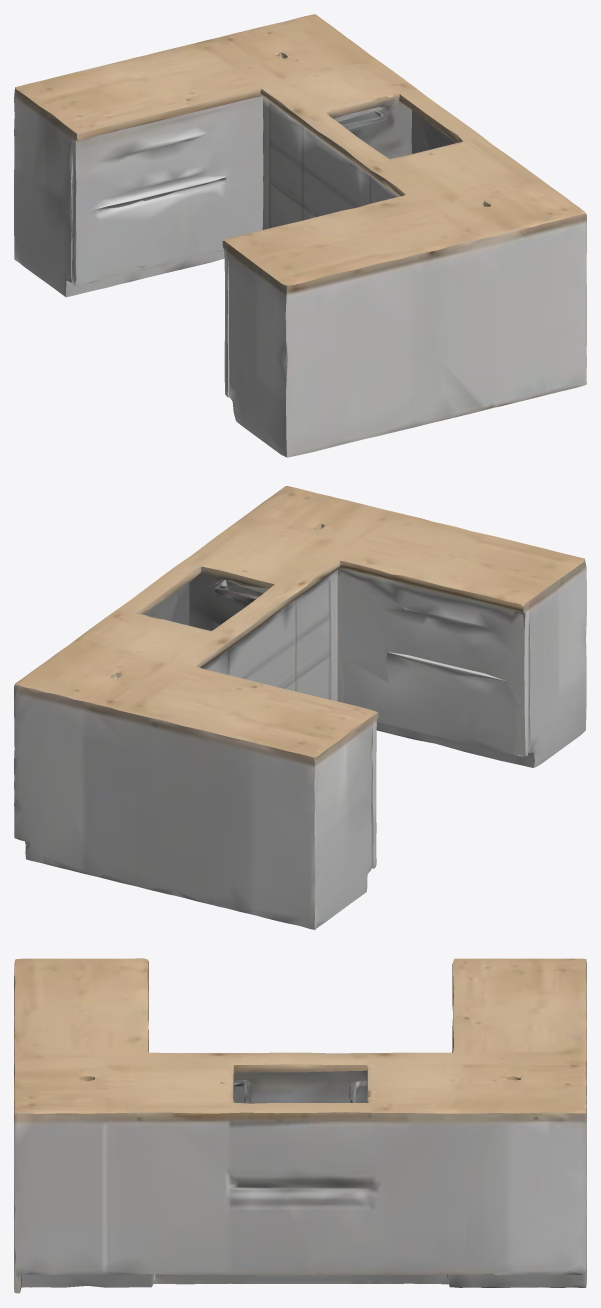
The model's file is kitchen-u-img.glb.
3 renders of one model, top to bottom at view 1: azimuth 30°, elevation 25°; view 2: azimuth 150°, elevation 25°; view 3: azimuth 270°, elevation 25°, orthographic. The views are drawn at different scales.
Visible parts, largest first — view 1: geometry_0; view 2: geometry_0; view 3: geometry_0.
Boxes of the visible parts, box(x1,y1,x2,y2) form: geometry_0: box(14, 14, 586, 457); geometry_0: box(14, 486, 586, 929); geometry_0: box(14, 958, 586, 1293).
Bounding box in the file's own units: 2.4 × 1.33 × 3.75.
1 material, 1 textured.
